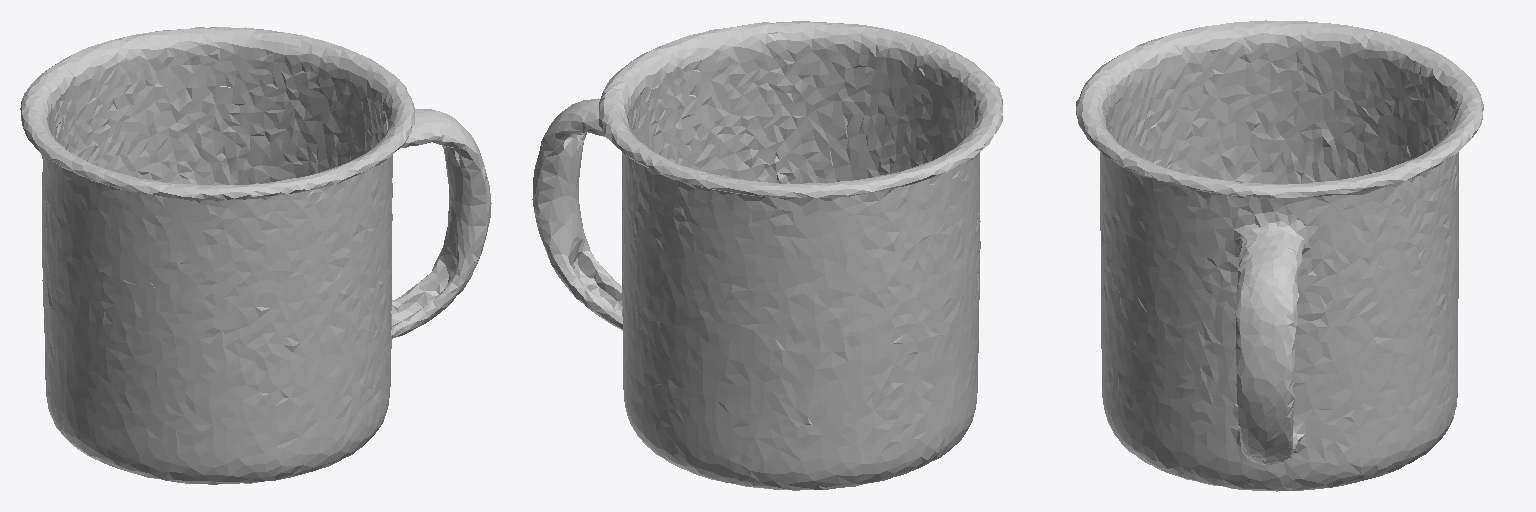
robot.urdf — ycb_mug_mod:
<robot name="ycb_mug_mod">
    <link concave='yes' name="link_object">
        <visual>
            <origin rpy="0 0 0" xyz="0.00000 0.00000 0.00000" />
            <geometry>
                <mesh filename="mesh/mug/ycb_mug.obj" />
            </geometry>
            <material name='grey'/>
        </visual>

        <collision>
            <origin rpy="0 0 0" xyz="0.00000 0.00000 0.00000" />
            <geometry>
                <mesh filename="mesh/mug/ycb_mug.obj" />
            </geometry>
            <material name='grey'/>
        </collision>
        <inertial>
            <origin rpy="0 0 0" xyz="0 0 0" />
            <mass value="0.104" />
            <inertia ixx="0" ixy="0" ixz="0" iyy="0" iyz="0" izz="0" />
        </inertial>
    </link>

    <material name='grey'>
        <color rgba=".8 .8 .8 1.0"/>
    </material>

</robot>



--- Render facts (derived) ---
Views: 3 orthographic renders of the robot side by side, from view 1: azimuth 30°, elevation 25°; view 2: azimuth 150°, elevation 25°; view 3: azimuth 270°, elevation 25°.
Model ycb_mug_mod with 1 links and 0 joints (none), rooted at link_object, posed every joint at zero.
Visible links, largest first — view 1: link_object; view 2: link_object; view 3: link_object.
Link boxes in pixels (x1=…): link_object: x1=20, y1=27, x2=491, y2=484; link_object: x1=532, y1=21, x2=1002, y2=490; link_object: x1=1076, y1=20, x2=1483, y2=491.
Size in the robot's own frame: 0.117 by 0.0931 by 0.0813 metres.
1 mesh visuals loaded from 1 distinct referenced files (1 OBJ).